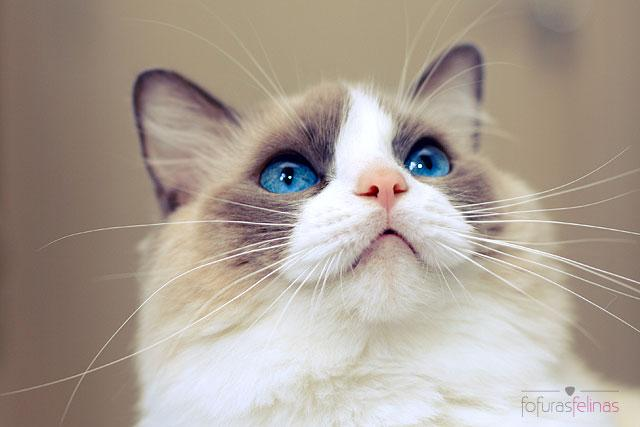ragdoll: (134, 26, 489, 341)
